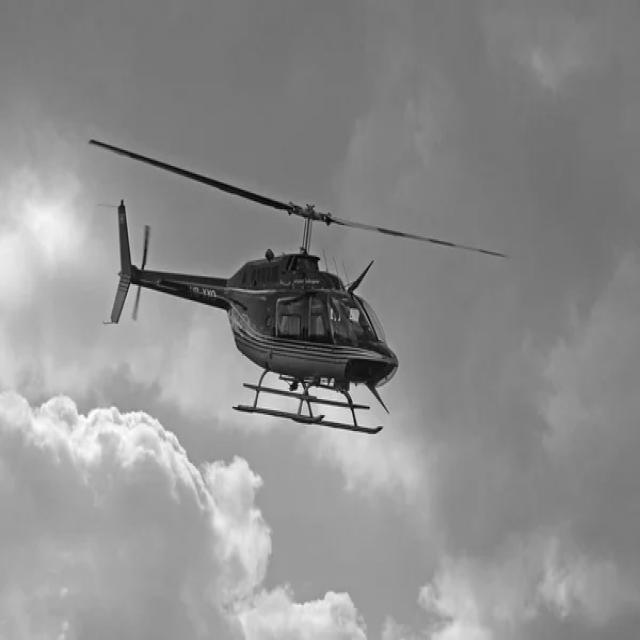Helicopter: (90, 140, 508, 433)
